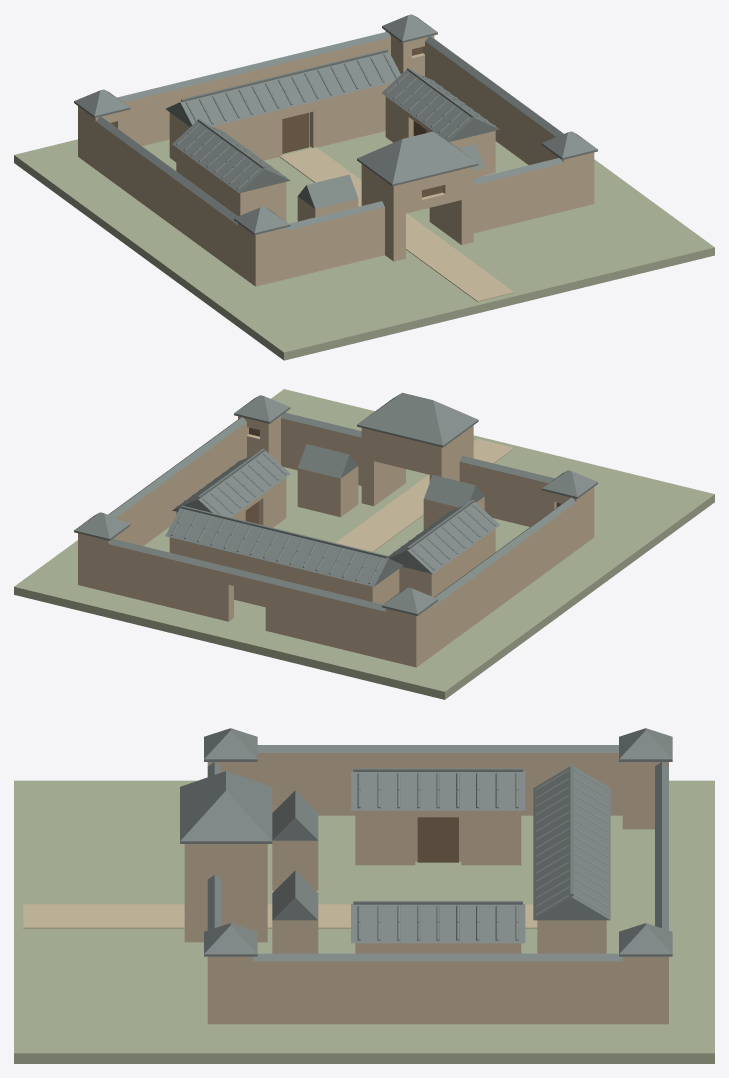
Rendered from quality-reference-013-A.glb.
3 renders of one model, top to bottom at view 1: azimuth 30°, elevation 25°; view 2: azimuth 150°, elevation 25°; view 3: azimuth 270°, elevation 25°, orthographic. The views are drawn at different scales.
Parts seen in each view (by area): view 1: C_ground, B_boundary_side_-1, B_rear_room_roof, C_arrival, B_boundary_frontL, B_boundary_side_1, B_boundary_frontR, B_rear_room_jamb_1, B_gate_roof, B_side_room_-1_roof, B_side_room_1_roof, B_boundary_rearL (+27 smaller); view 2: C_ground, B_boundary_side_-1, B_rear_room_roof, B_boundary_rearR, B_boundary_rearL, B_boundary_side_1, B_rear_room_core, B_gate_roof, B_boundary_frontL, C_arrival, B_front_header_core, B_side_room_-1_roof (+24 smaller); view 3: C_ground, B_boundary_side_1, B_boundary_side_-1, B_rear_room_roof, B_side_room_1_roof, B_side_room_-1_roof, B_gate_roof, C_arrival, B_gate_jamb_1, B_side_room_-1_jamb_-1, B_side_room_-1_jamb_1, B_boundary_side_cap_1 (+24 smaller).
Boxes of the visible parts, x1,y1,x2,y2 form: C_ground: (14,131,714,360); B_boundary_side_-1: (95,121,237,273); B_rear_room_roof: (165,51,400,126); C_arrival: (279,147,514,301); B_boundary_frontL: (286,207,384,278); B_boundary_side_1: (425,41,555,164); B_boundary_frontR: (473,163,563,233); B_rear_room_jamb_1: (310,82,391,147); B_gate_roof: (357,131,478,184); B_side_room_-1_roof: (172,120,290,193); B_side_room_1_roof: (381,69,499,141); B_boundary_rearL: (124,75,233,145); C_ground: (14,389,714,699); B_boundary_side_-1: (434,502,576,654); B_rear_room_roof: (165,507,403,586); B_boundary_rearR: (108,544,233,621); B_boundary_rearL: (265,582,385,659); B_boundary_side_1: (116,422,246,545); B_rear_room_core: (169,537,396,607); B_gate_roof: (357,392,478,445); B_boundary_frontL: (459,461,547,526); C_arrival: (336,439,514,551); B_front_header_core: (361,427,471,476); B_side_room_-1_roof: (388,501,499,573); C_ground: (14,780,714,1063); B_boundary_side_1: (253,961,622,1024); B_boundary_side_-1: (253,753,622,815); B_rear_room_roof: (533,766,610,920); B_side_room_1_roof: (351,904,525,943); B_side_room_-1_roof: (351,771,525,810); B_gate_roof: (180,771,272,841); C_arrival: (23,904,537,928); B_gate_jamb_1: (184,883,267,942); B_side_room_-1_jamb_-1: (355,810,415,865); B_side_room_-1_jamb_1: (461,810,521,865); B_boundary_side_cap_1: (253,953,622,961).
Size of the model in its own units: 14 by 3.51 by 15.2.
